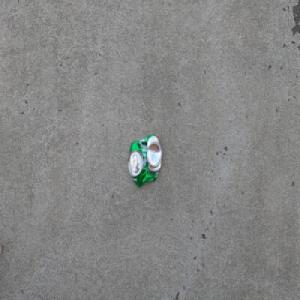SodaCan: (127, 132, 162, 188)
